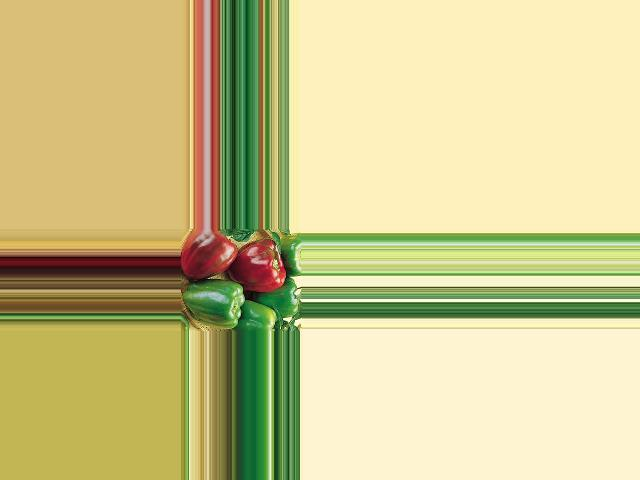bell_pepper: (180, 231, 237, 276)
